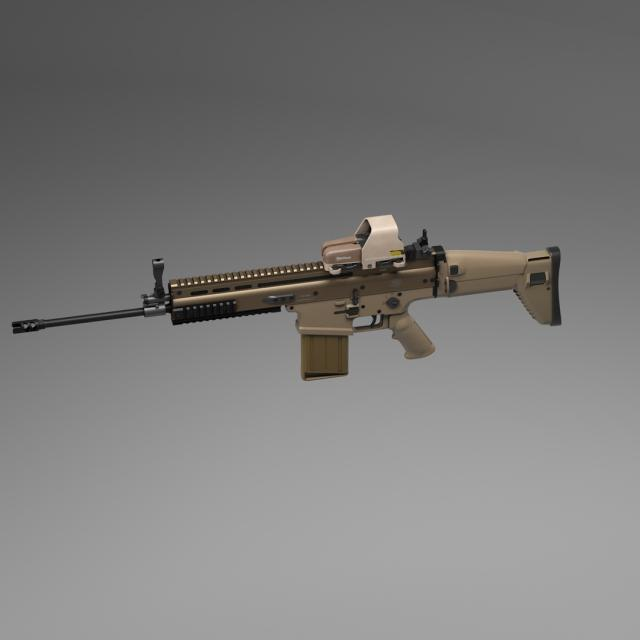Gun: (4, 186, 592, 413)
